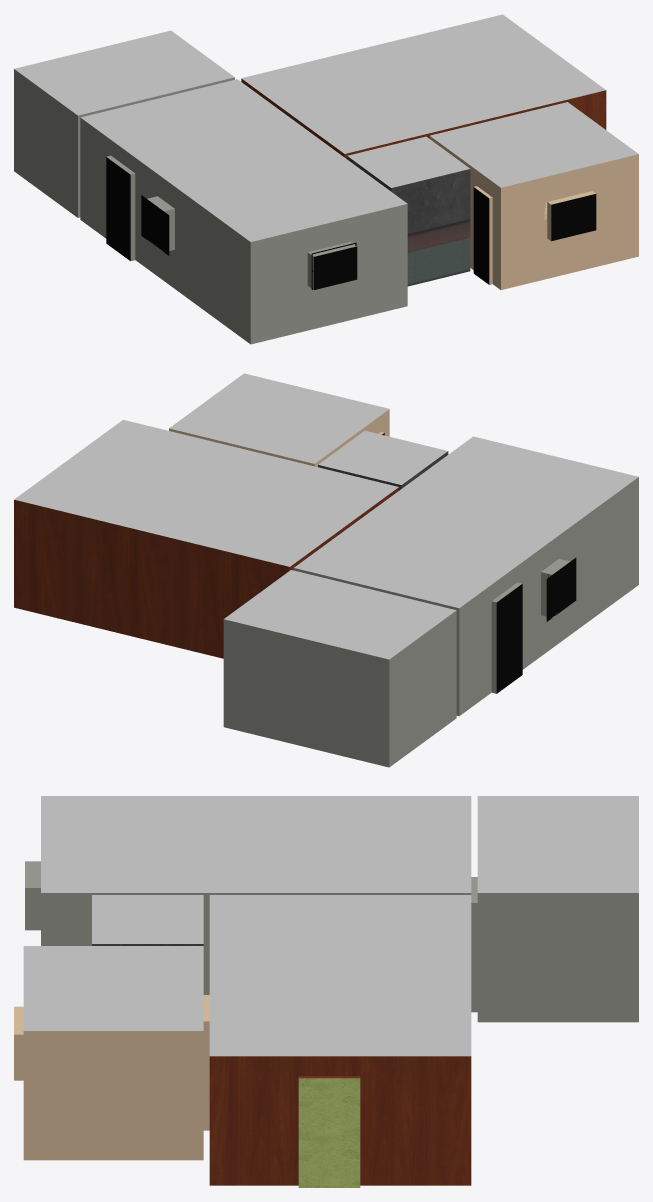
The model's file is JDHause.fbx.
3 renders of one model, top to bottom at view 1: azimuth 30°, elevation 25°; view 2: azimuth 150°, elevation 25°; view 3: azimuth 270°, elevation 25°, orthographic. The views are drawn at different scales.
Visible parts, largest first — view 1: Plane, Plane.015, Plane.005, Plane.006, Plane.007, Plane.011, Plane.013, Plane.010, Plane.004, Plane.022, Plane.019, Plane.009 (+1 smaller); view 2: Plane, Plane.015, Plane.005, Plane.004, Plane.007, Plane.013, Plane.010, Plane.018, Plane.006; view 3: Plane.015, Plane.005, Plane.004, Plane, Plane.006, Plane.007, Plane.003, Plane.013.
Part boxes in pixels (bbox=[...]): Plane: bbox=[14, 69, 407, 344]; Plane.015: bbox=[14, 30, 407, 241]; Plane.005: bbox=[241, 14, 605, 153]; Plane.006: bbox=[429, 136, 638, 289]; Plane.007: bbox=[430, 102, 638, 187]; Plane.011: bbox=[347, 156, 470, 286]; Plane.013: bbox=[347, 136, 469, 187]; Plane.010: bbox=[106, 157, 130, 260]; Plane.004: bbox=[241, 78, 606, 158]; Plane.022: bbox=[551, 194, 596, 241]; Plane.019: bbox=[314, 246, 357, 289]; Plane.009: bbox=[473, 187, 489, 284]; Plane: bbox=[223, 477, 638, 767]; Plane.015: bbox=[224, 436, 638, 659]; Plane.005: bbox=[14, 419, 398, 566]; Plane.004: bbox=[14, 487, 398, 658]; Plane.007: bbox=[169, 373, 388, 463]; Plane.013: bbox=[318, 431, 447, 484]; Plane.010: bbox=[496, 584, 522, 693]; Plane.018: bbox=[546, 557, 576, 621]; Plane.006: bbox=[169, 409, 389, 466]; Plane.015: bbox=[41, 796, 638, 892]; Plane.005: bbox=[209, 895, 471, 1056]; Plane.004: bbox=[209, 1056, 471, 1185]; Plane: bbox=[25, 861, 638, 1022]; Plane.006: bbox=[14, 995, 209, 1160]; Plane.007: bbox=[23, 946, 203, 1030]; Plane.003: bbox=[298, 1078, 360, 1185]; Plane.013: bbox=[92, 895, 203, 943].
Bounding box in the file's own units: 427 × 127 × 419.
